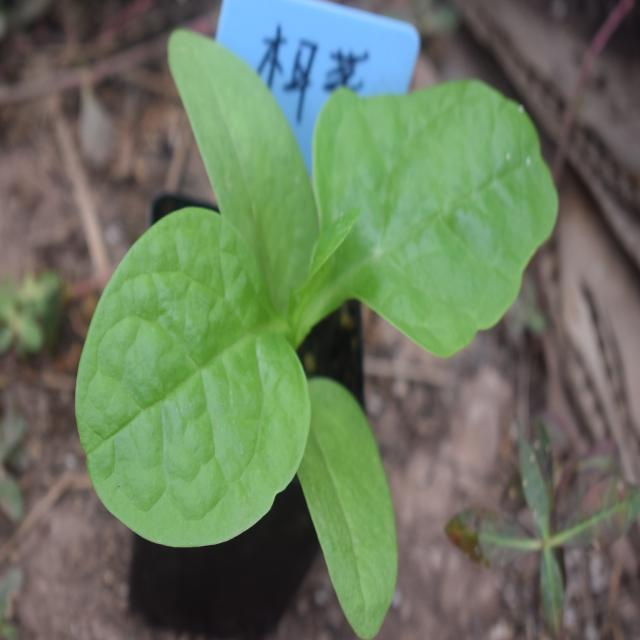Ceylon spinach: (116, 22, 556, 582)
